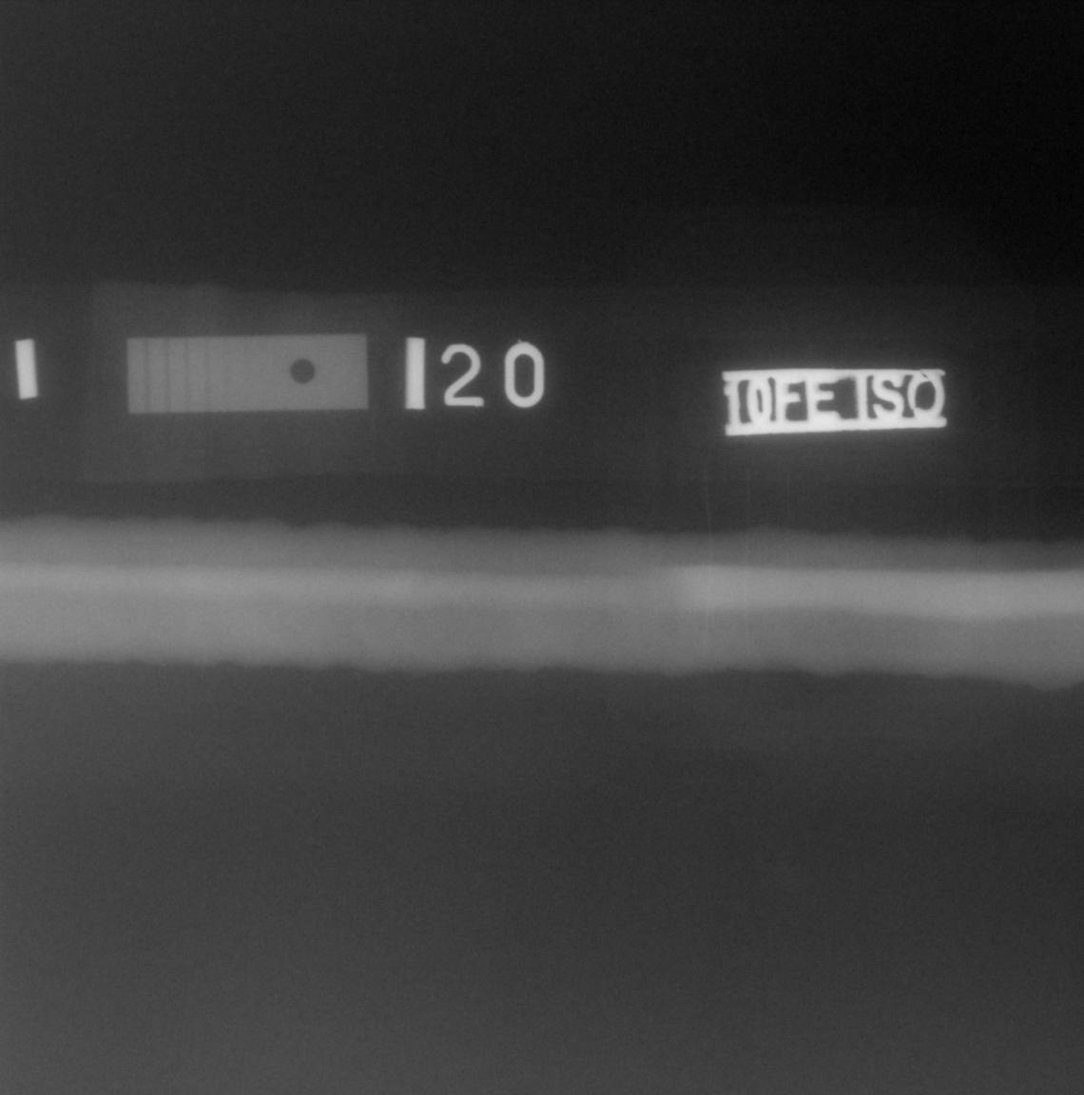Reference Standard 1: (127, 332, 369, 413)
